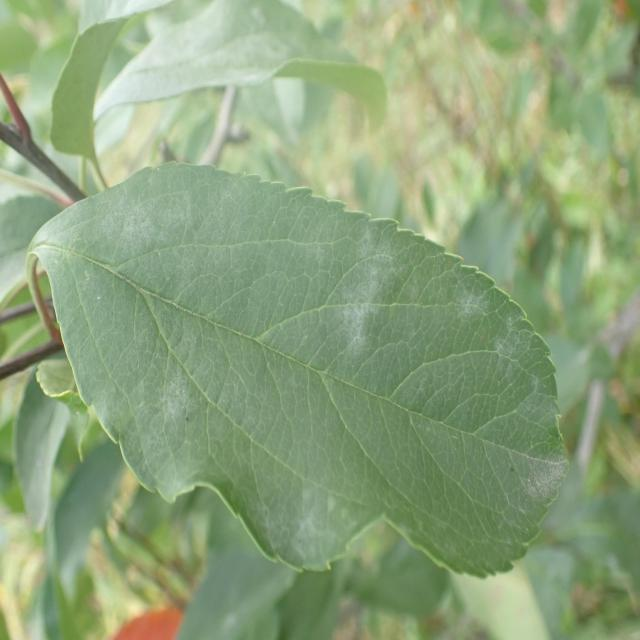Powdery_mildew: (44, 153, 569, 581)
